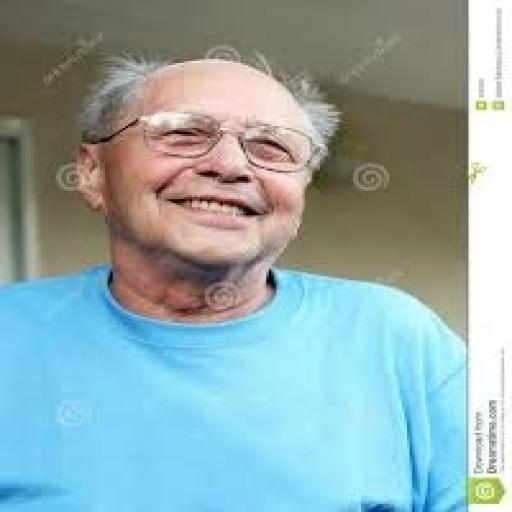laughing: (0, 38, 468, 510)
